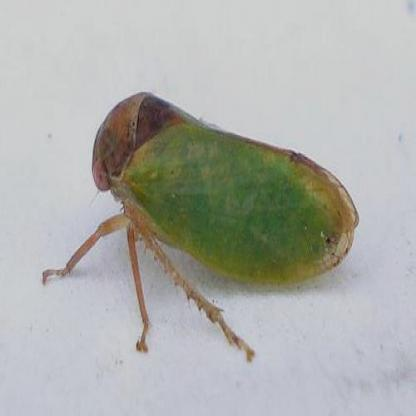green-leafhopper: (91, 91, 358, 300)
